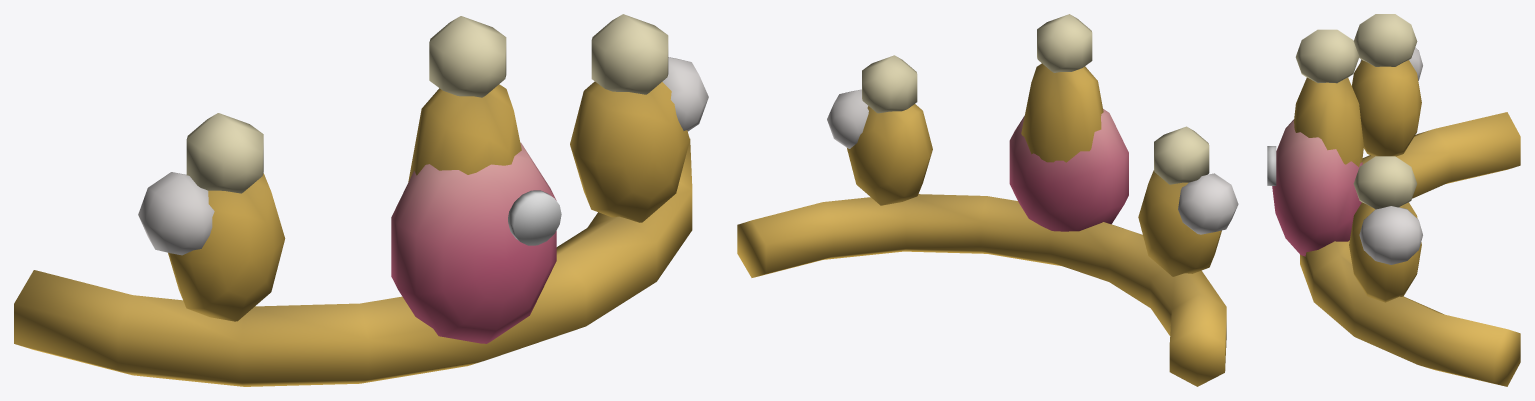
Rendered from acc-head-legendary.glb.
The picture shows the model from 3 angles, left to right: view 1: azimuth 30°, elevation 25°; view 2: azimuth 150°, elevation 25°; view 3: azimuth 270°, elevation 25°; orthographic projection. The views are drawn at different scales.
Parts seen in each view (by area): view 1: acc-head-legendary; view 2: acc-head-legendary; view 3: acc-head-legendary.
Part boxes in pixels (box(x1,y1,x2,y2)): acc-head-legendary: box(14, 14, 708, 386); acc-head-legendary: box(737, 14, 1238, 386); acc-head-legendary: box(1267, 14, 1520, 386).
Bounding box in the file's own units: 0.1599 × 0.078 × 0.0721.
